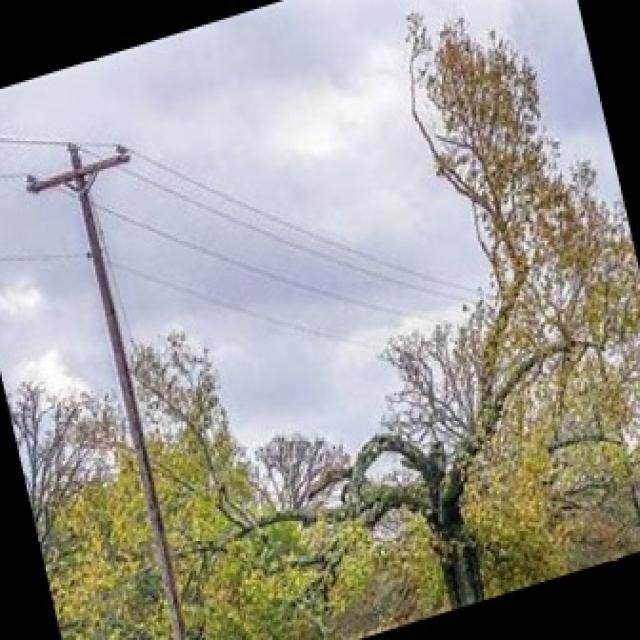utility poles: (32, 121, 240, 638)
